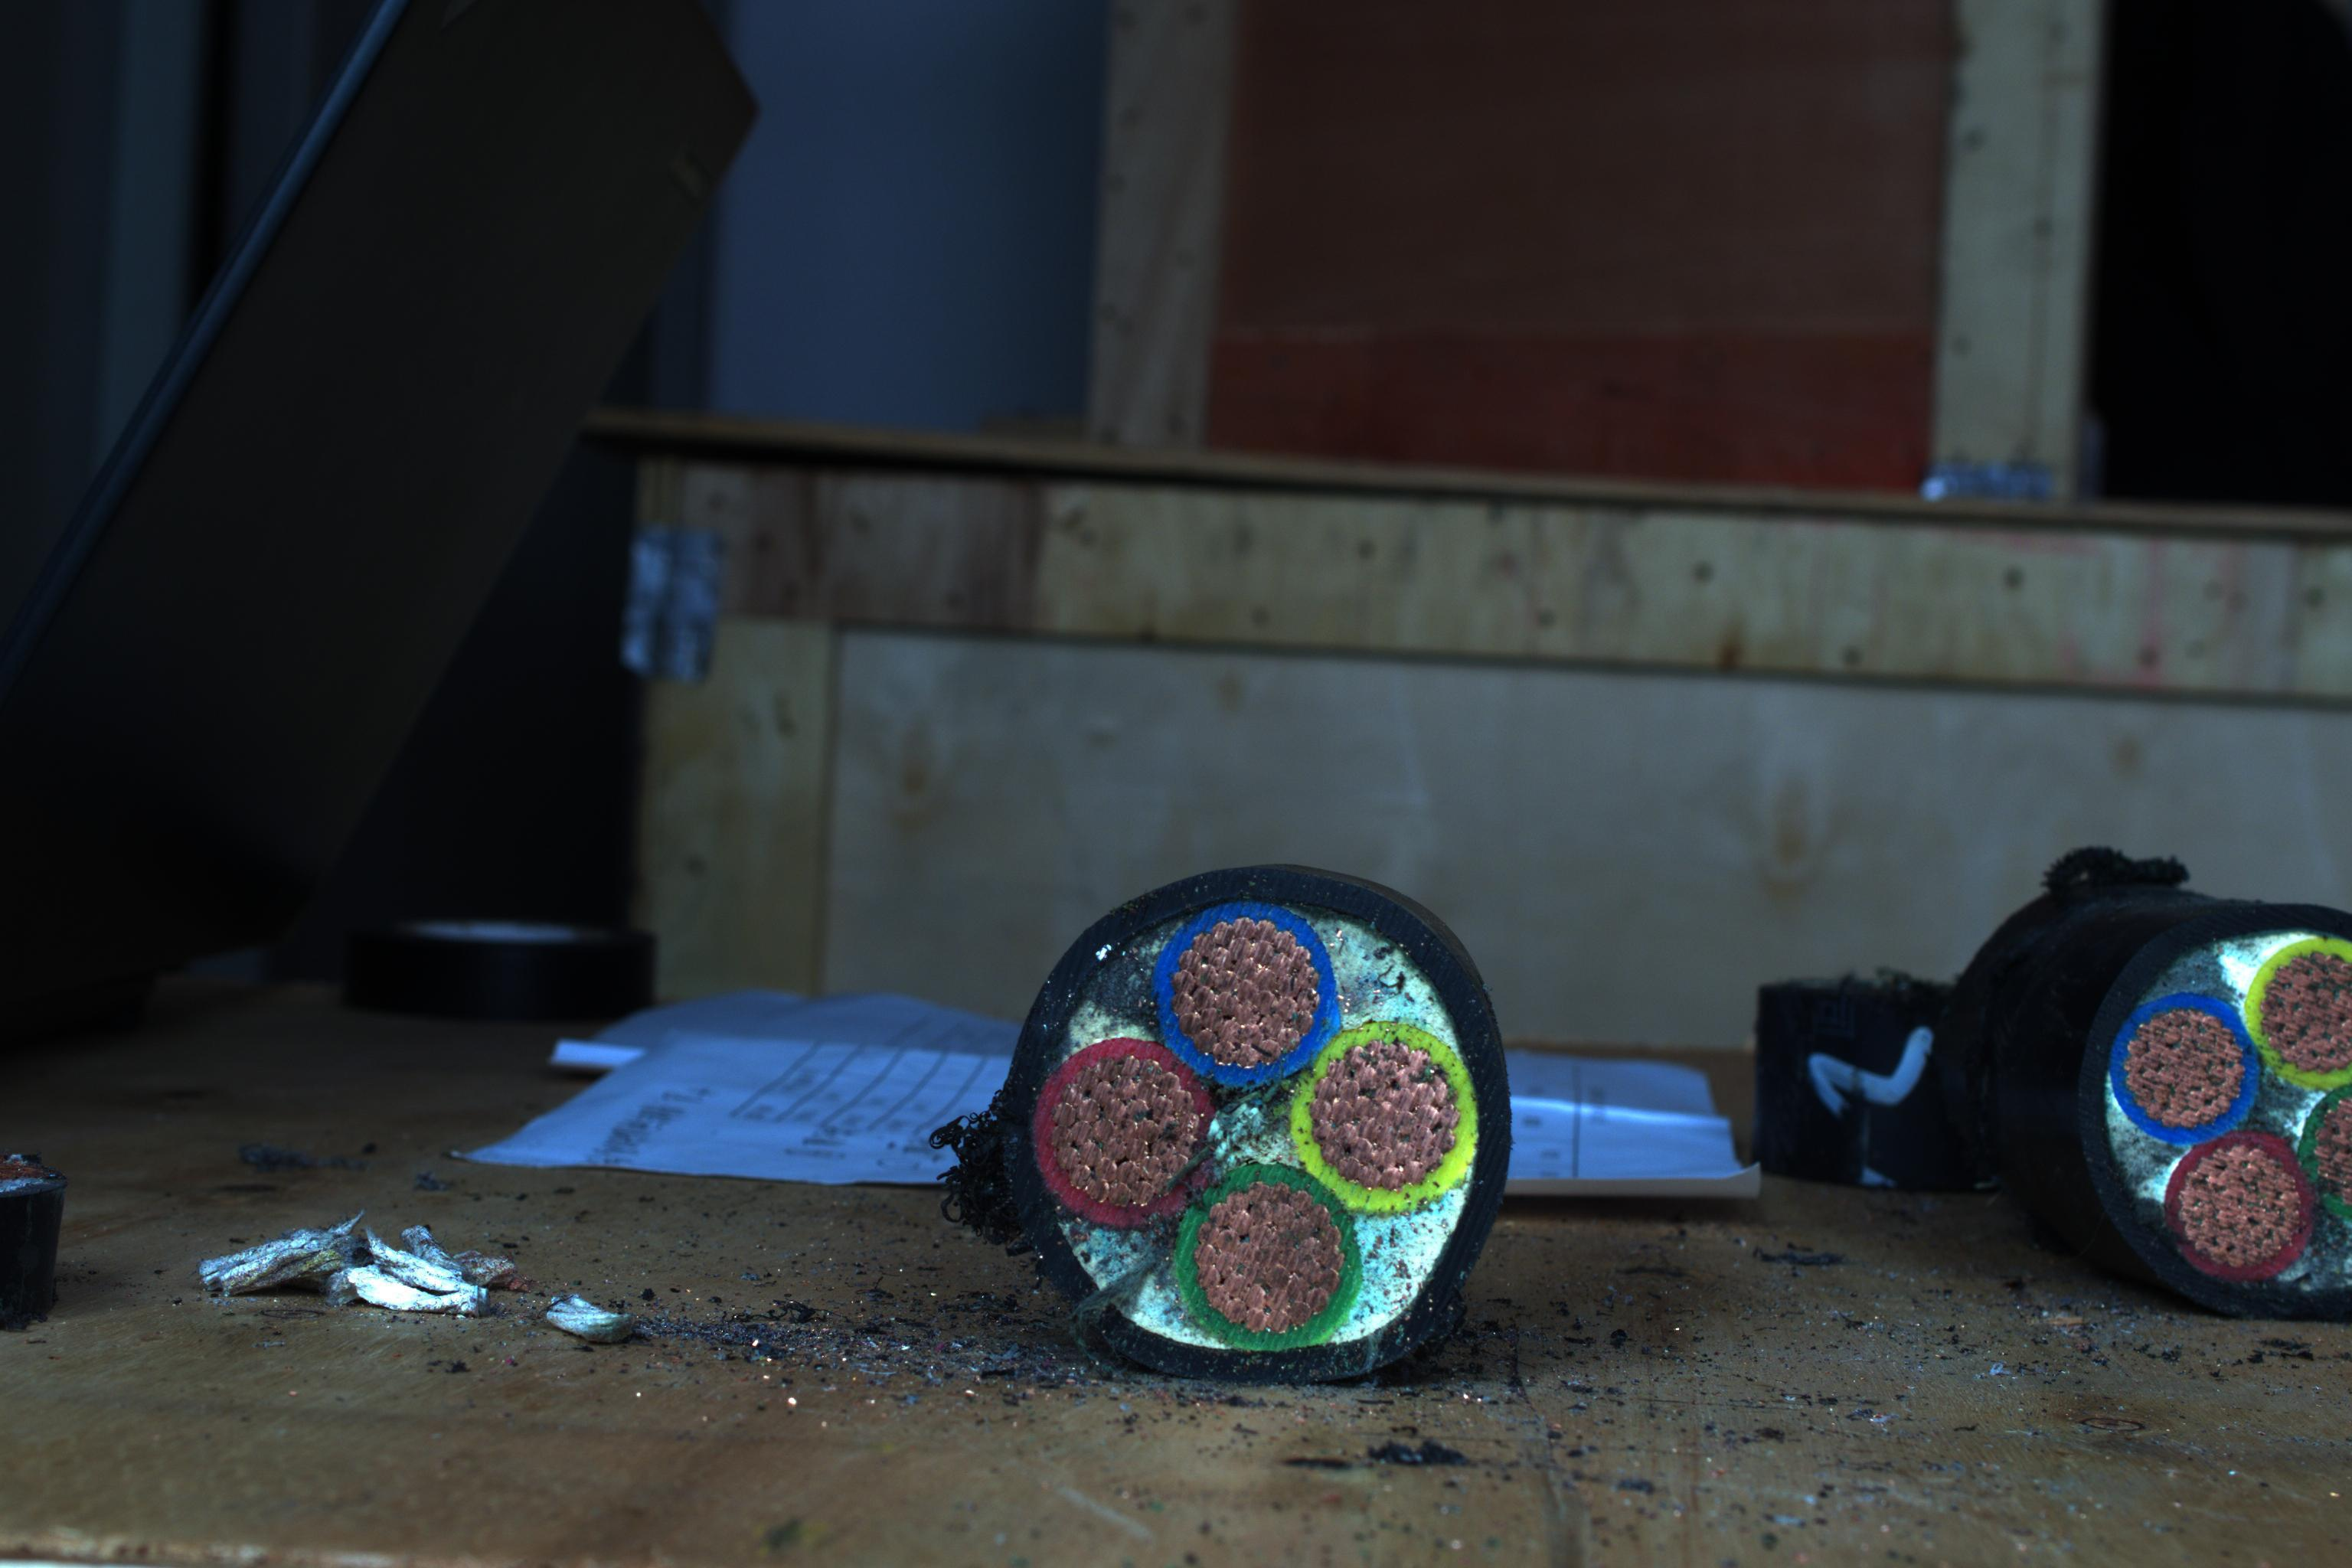YJV_0.6_1kV_4x185: (1031, 891, 1498, 1377)
